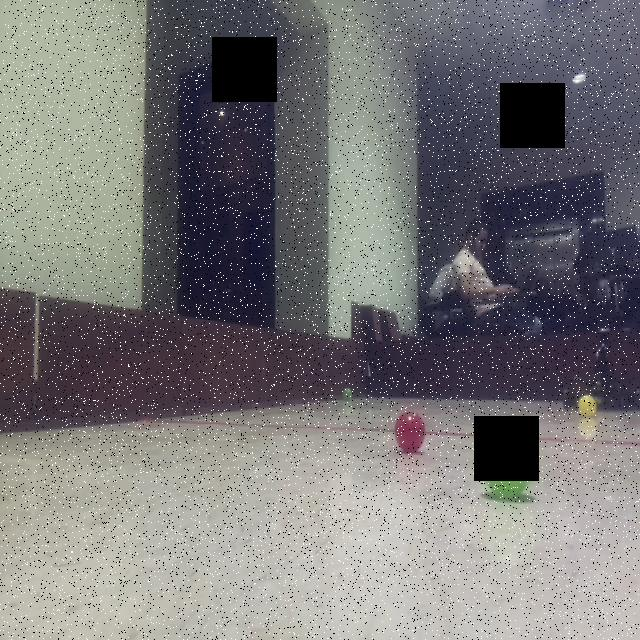ball: (478, 424, 537, 502), (389, 406, 430, 454), (576, 392, 599, 422), (338, 382, 358, 406)
